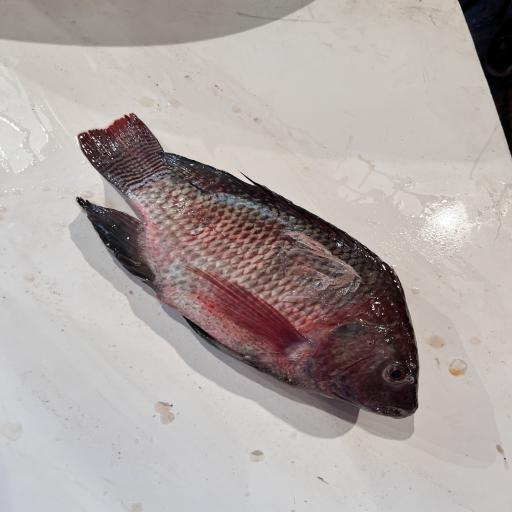Tilapia: (76, 113, 419, 419)
